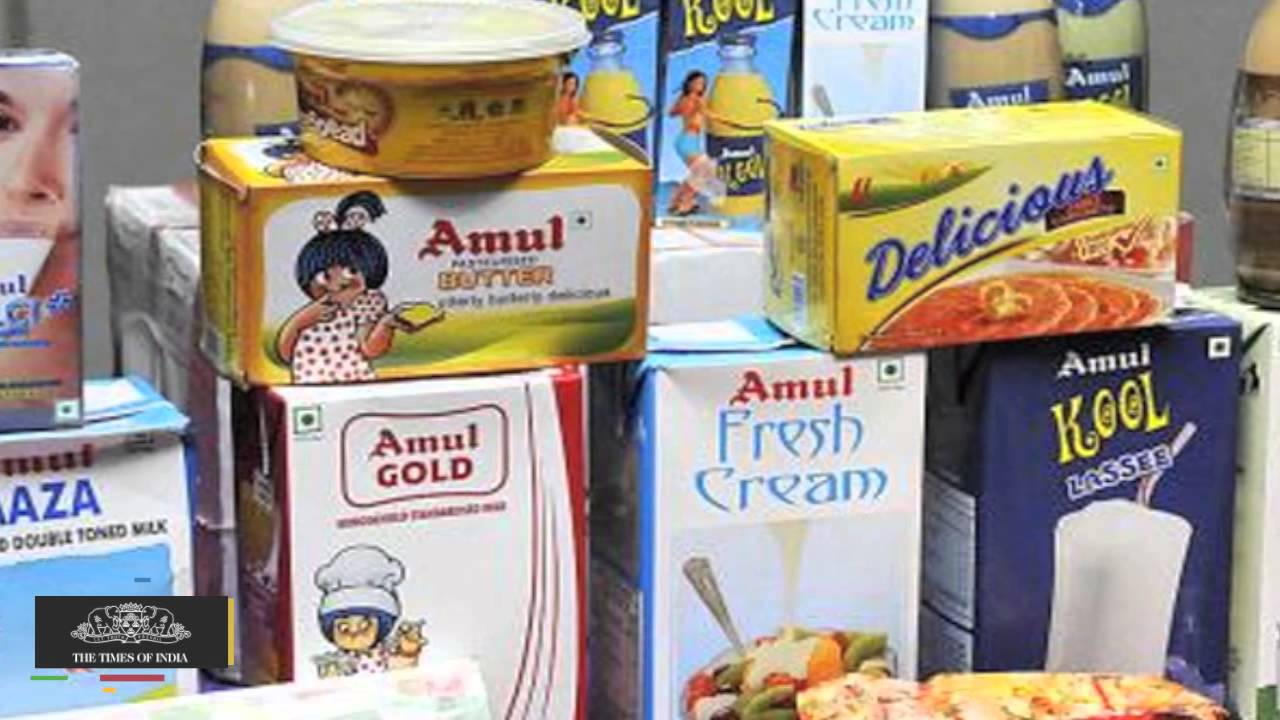VEG: (293, 404, 323, 444), (876, 358, 906, 386), (53, 398, 83, 423), (569, 208, 593, 233), (1207, 337, 1229, 361), (1149, 154, 1170, 173)
